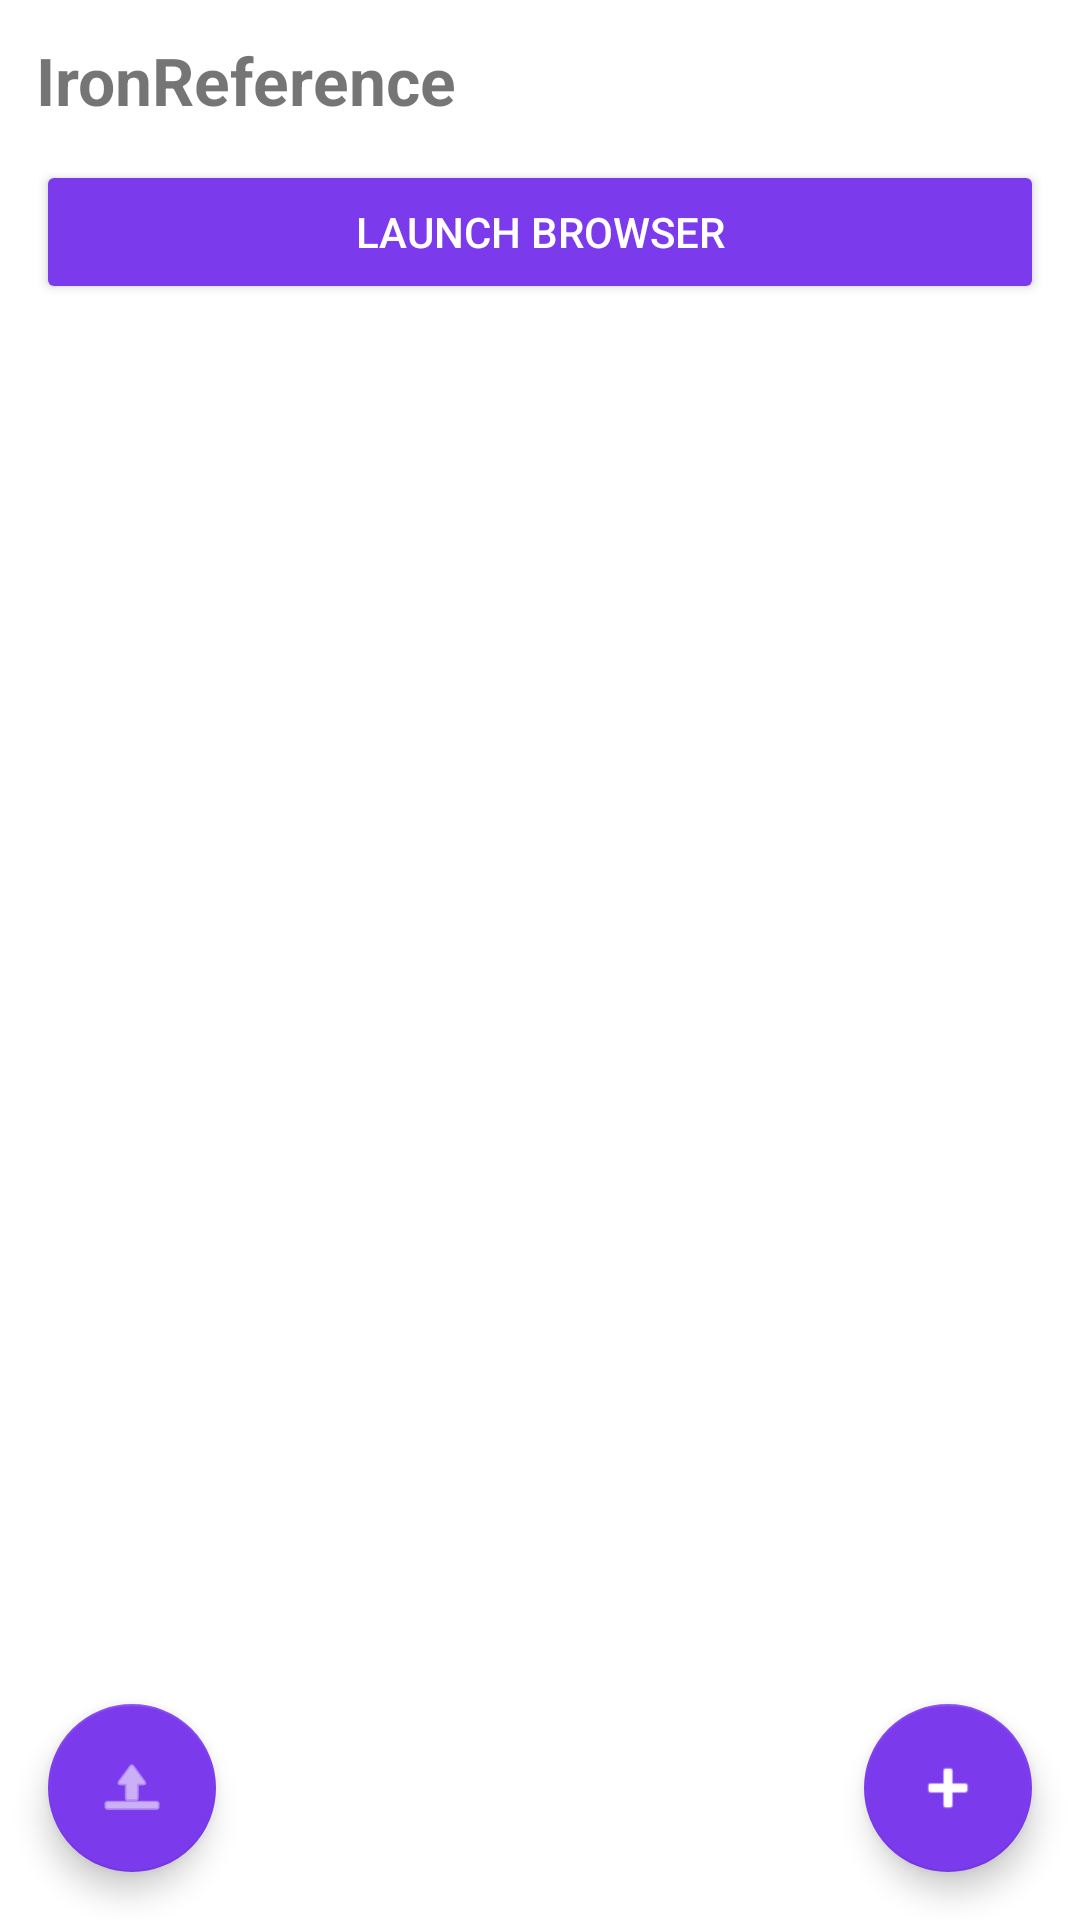

Named icons in this screenshot (1080 × 1920) and their centers, point (x, y):
Add URL: point (948, 1788)
Import: point (132, 1788)
